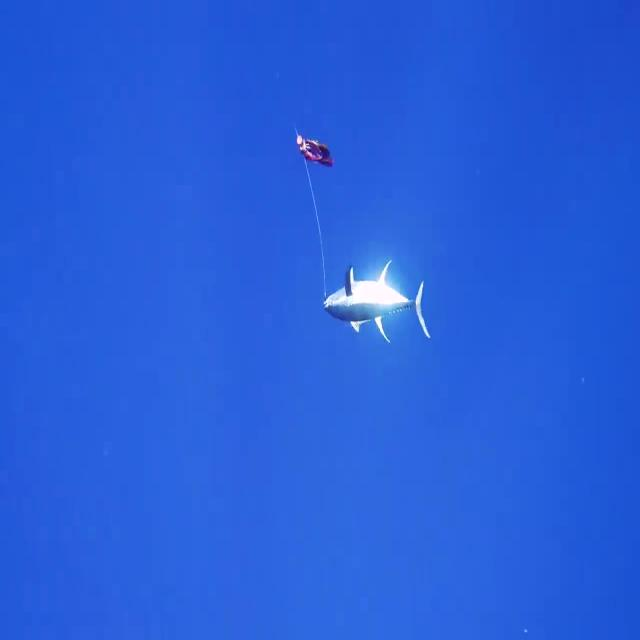Yellowfin Tuna: (322, 258, 432, 345)
